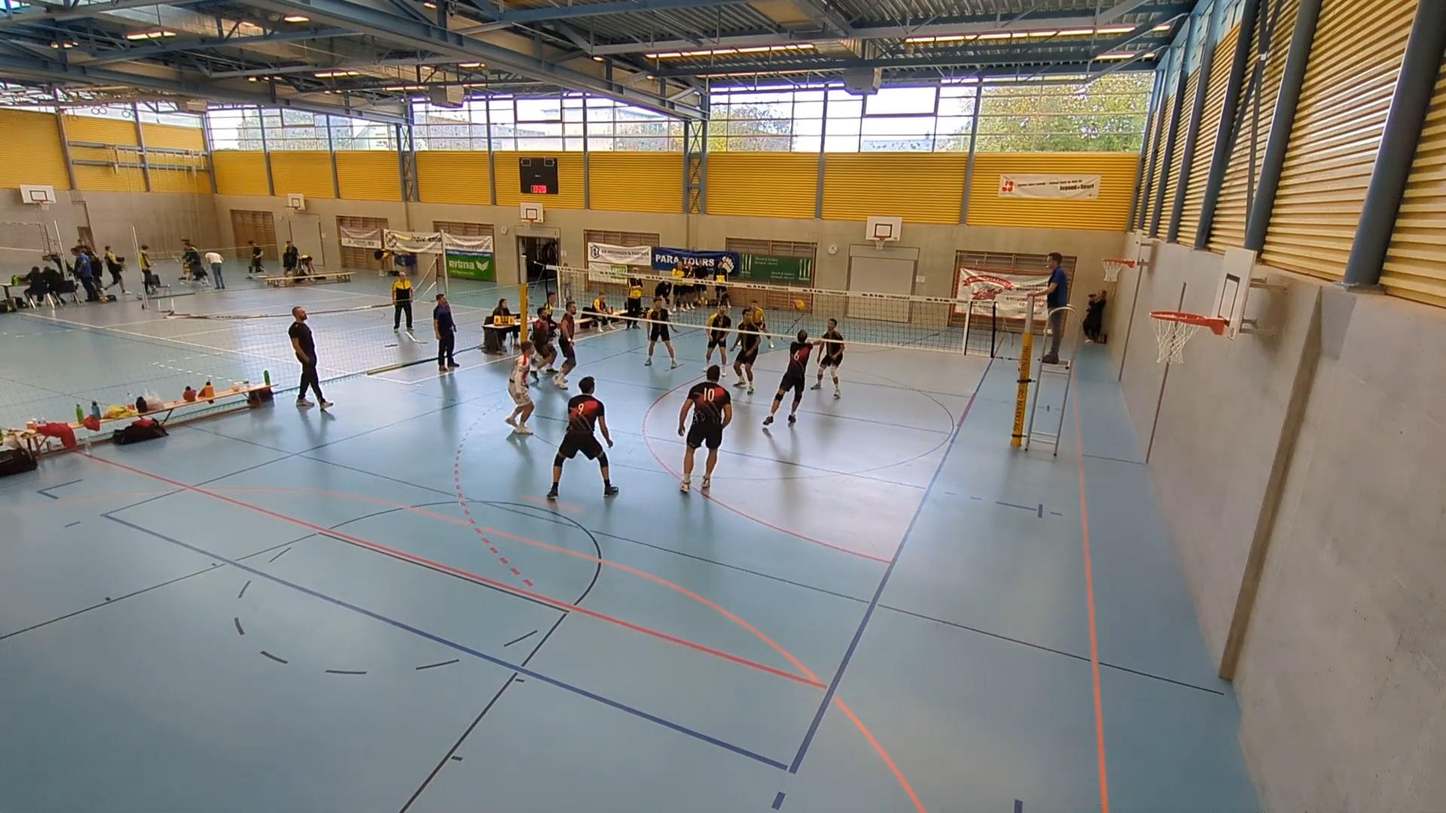Dig: (761, 327, 824, 430)
Player: (546, 376, 618, 501), (679, 365, 731, 493), (505, 341, 534, 434), (811, 318, 844, 397), (645, 297, 678, 368), (734, 310, 761, 393), (553, 301, 576, 388), (530, 306, 557, 379), (705, 304, 731, 367), (749, 299, 774, 349)
ball: (791, 299, 810, 310)
